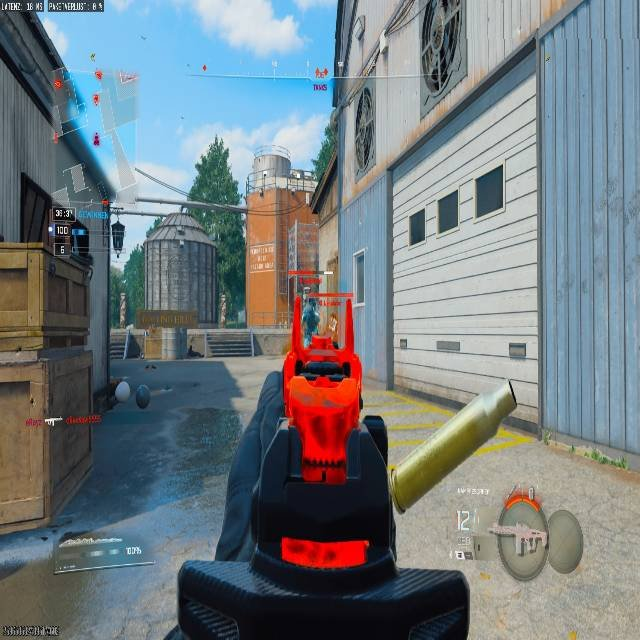player: (301, 292, 320, 346)
